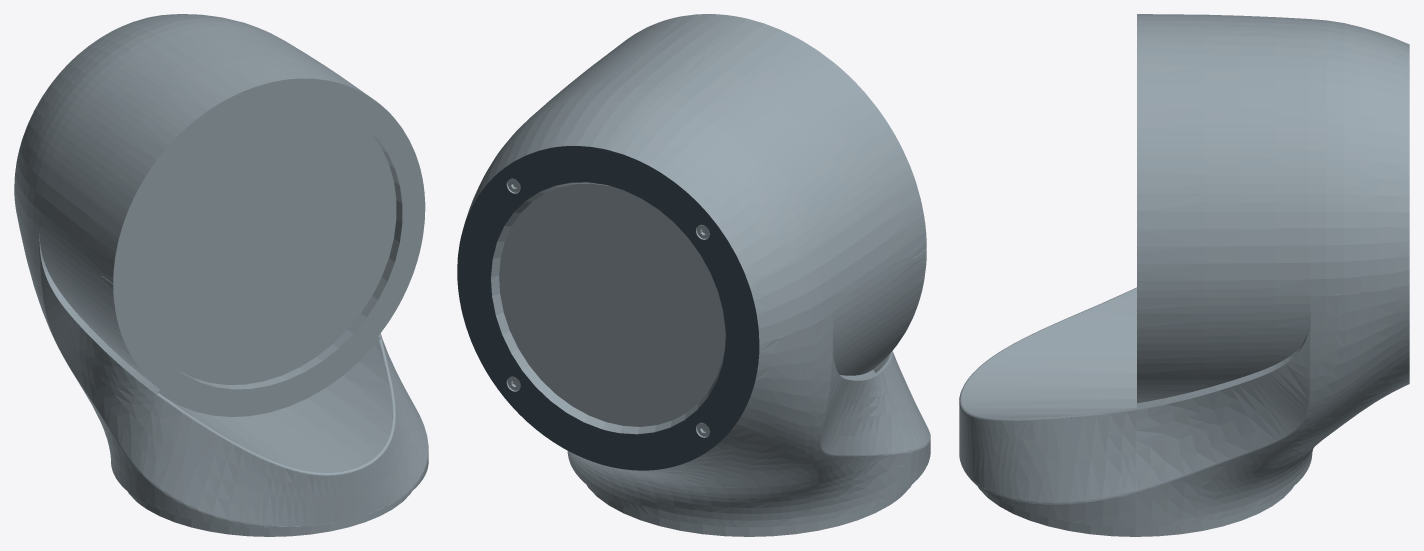
The picture shows the model from 3 angles, left to right: view 1: azimuth 30°, elevation 25°; view 2: azimuth 150°, elevation 25°; view 3: azimuth 270°, elevation 25°; orthographic projection. The views are drawn at different scales.
Parts seen in each view (by area): view 1: link2; view 2: link2; view 3: link2.
Part boxes in pixels (bbox=[...]): link2: bbox=[14, 14, 428, 536]; link2: bbox=[457, 14, 930, 536]; link2: bbox=[959, 14, 1409, 536].
Size of the model in its own units: 0.152 by 0.182 by 0.171.
